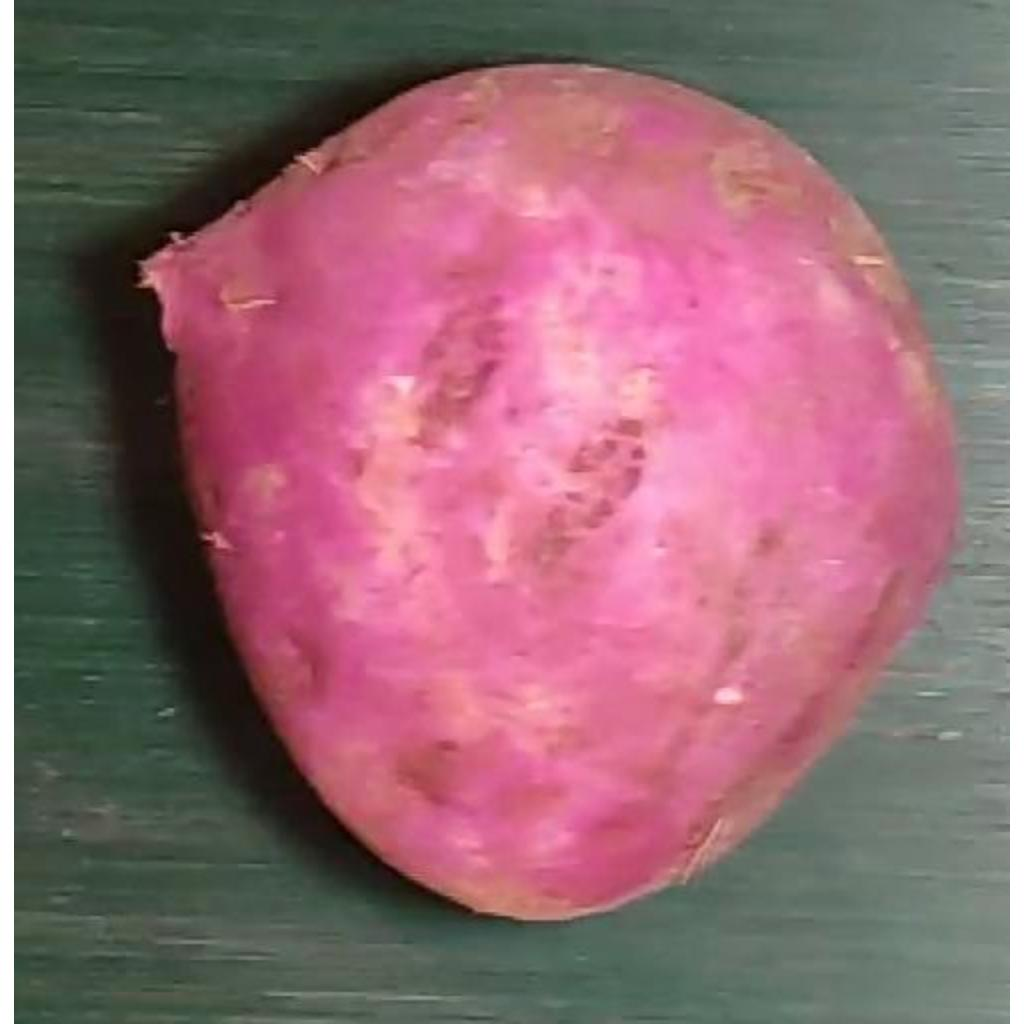Sweet Potato: (134, 64, 962, 926)
